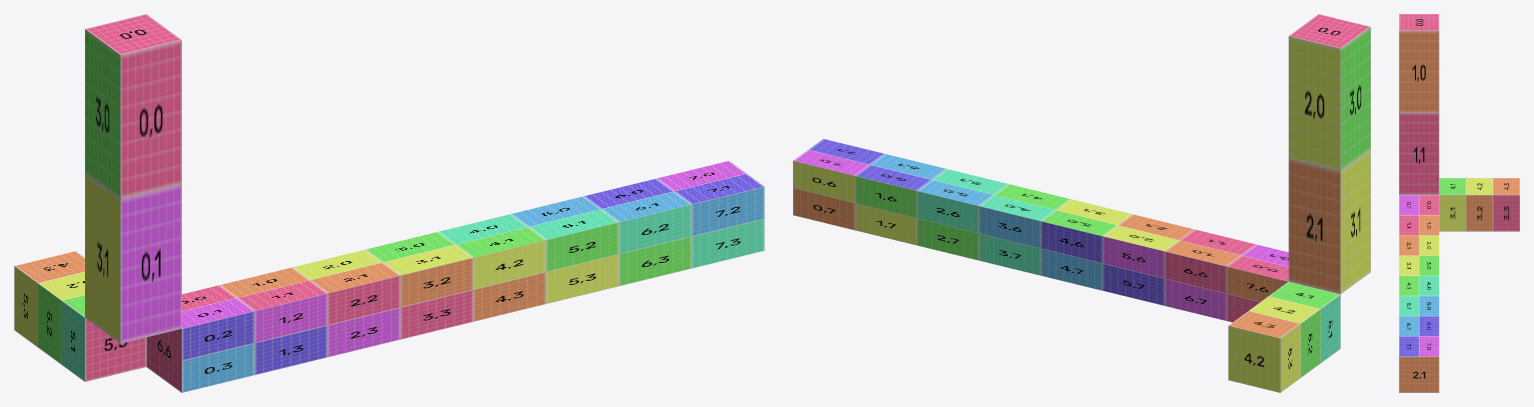
The model's file is axis.obj.
The picture shows the model from 3 angles, left to right: view 1: azimuth 30°, elevation 25°; view 2: azimuth 150°, elevation 25°; view 3: azimuth 270°, elevation 25°; orthographic projection. The views are drawn at different scales.
Parts seen in each view (by area): view 1: Cube; view 2: Cube; view 3: Cube.
Part boxes in pixels (left/top/right/bottom): Cube: left=14, top=14, right=764, bottom=392; Cube: left=793, top=14, right=1370, bottom=392; Cube: left=1399, top=14, right=1519, bottom=392.
Size of the model in its own units: 4.2 by 2.2 by 1.2.
1 material, 1 textured.
